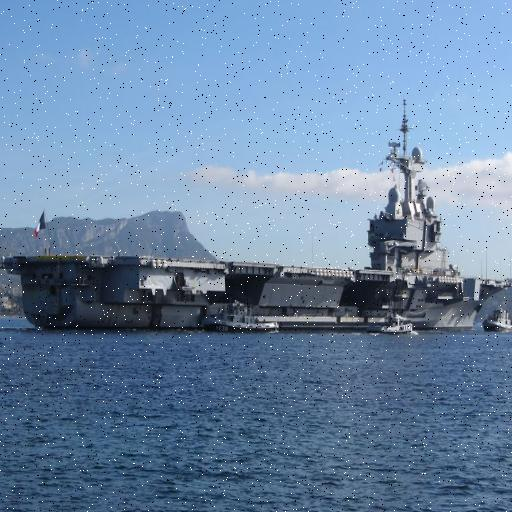Portanaves: (1, 98, 512, 337)
